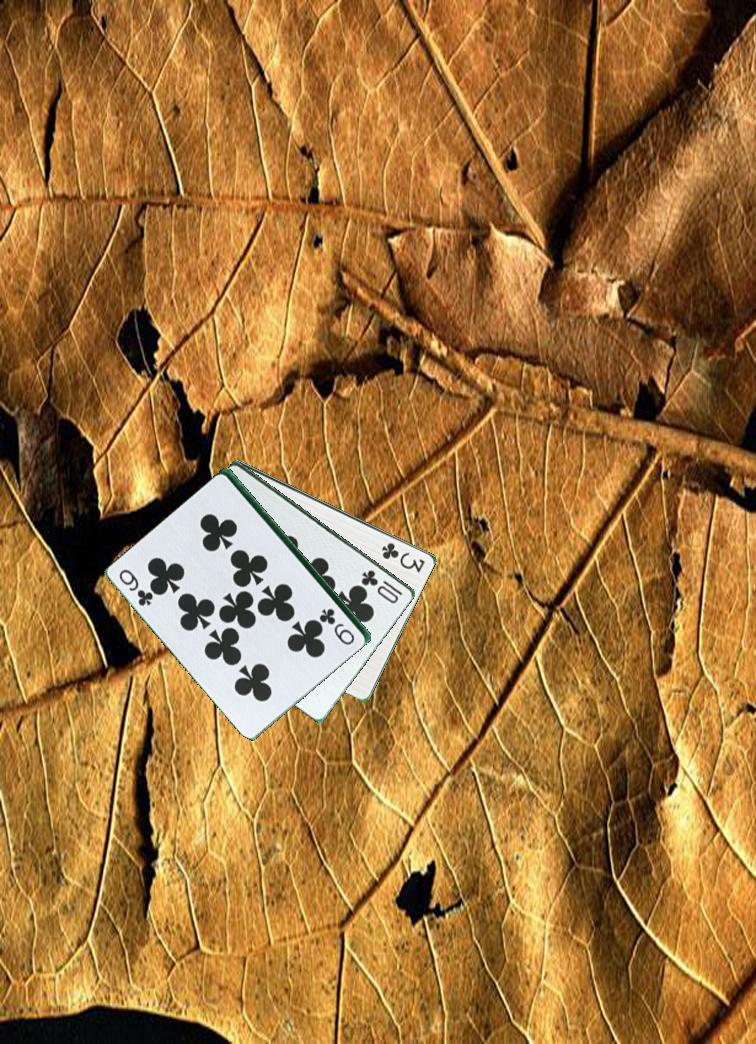3c: (372, 538, 428, 576)
9c: (116, 565, 161, 611), (318, 605, 358, 648)
tc: (353, 566, 406, 610)
